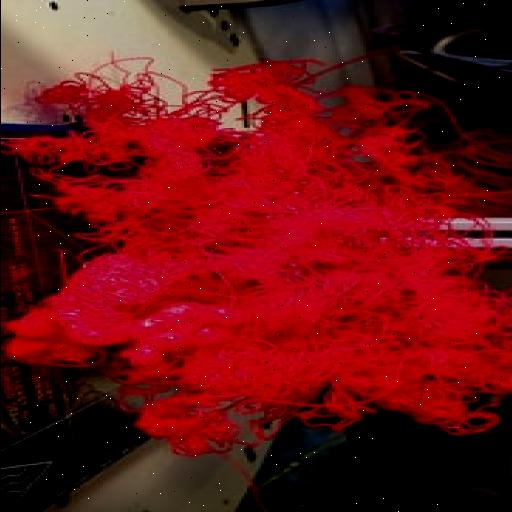spaghetti: (0, 61, 509, 458)
